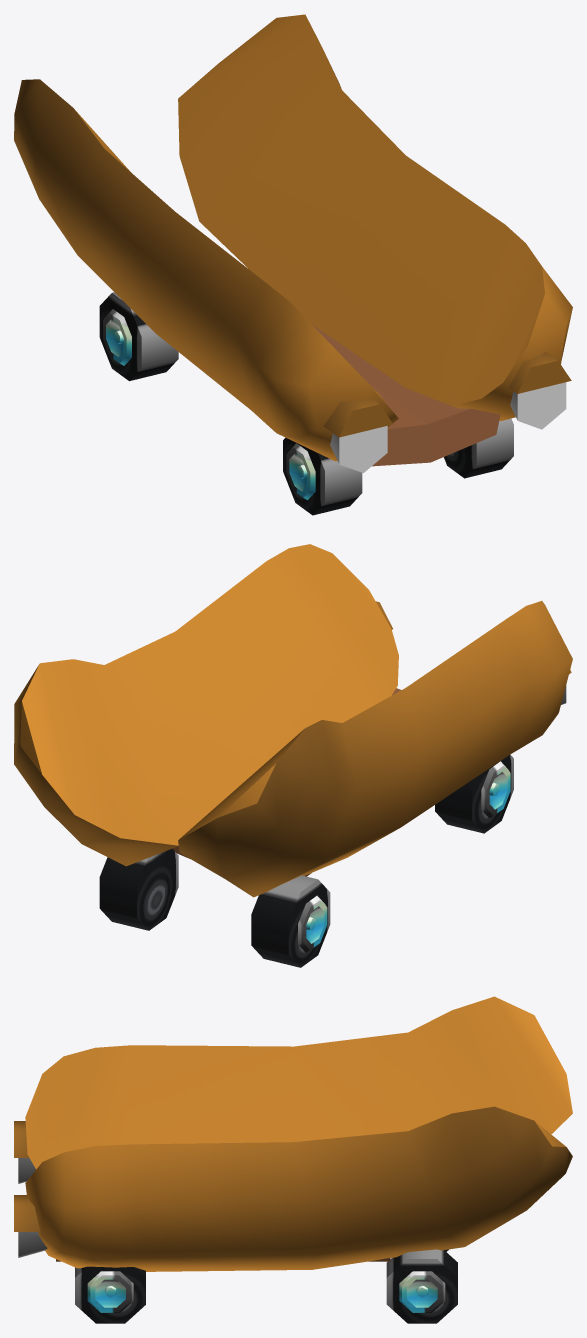
The model's file is head_Hotdog.fbx.
3 renders of one model, top to bottom at view 1: azimuth 30°, elevation 25°; view 2: azimuth 150°, elevation 25°; view 3: azimuth 270°, elevation 25°, orthographic. The views are drawn at different scales.
Parts seen in each view (by area): view 1: head_Hotdog; view 2: head_Hotdog; view 3: head_Hotdog.
Part boxes in pixels (x1=…): head_Hotdog: x1=14, y1=14, x2=572, y2=515; head_Hotdog: x1=14, y1=544, x2=572, y2=967; head_Hotdog: x1=14, y1=996, x2=572, y2=1323.
Bounding box in the file's own units: 1688 × 1447 × 3148.
